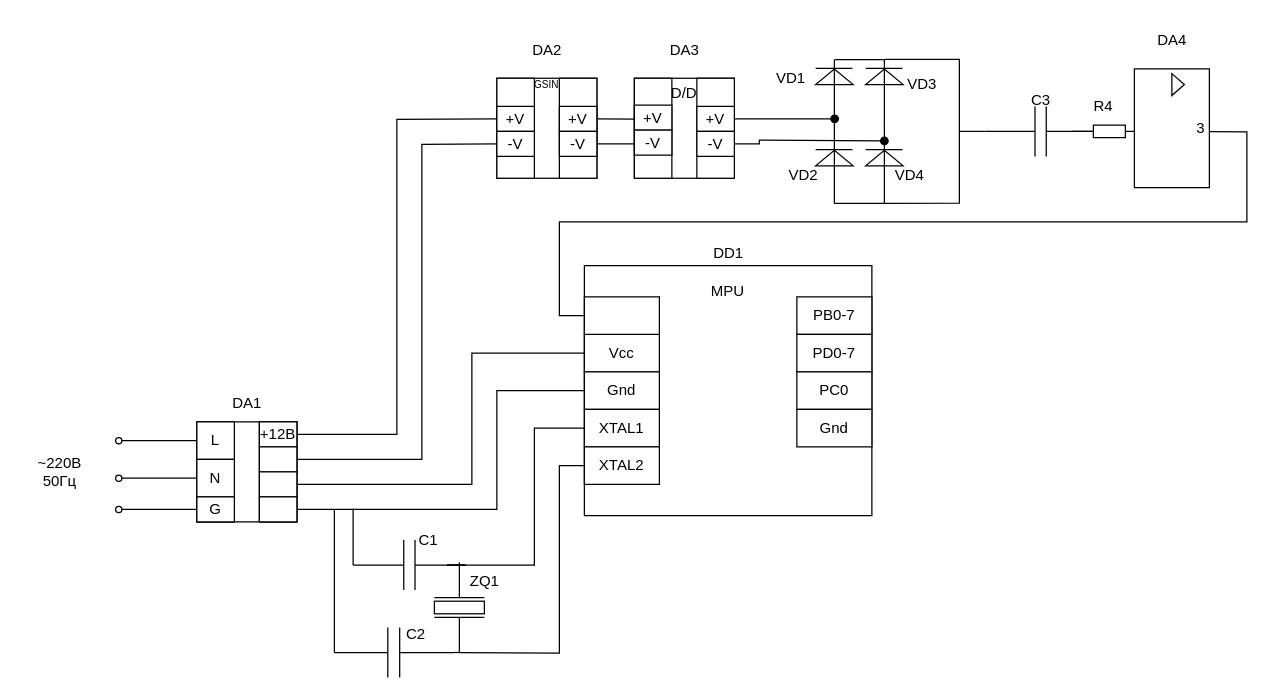
Image size: 1270x699. Some labels were removed from this diagram. The centre of each missing label's shape, as x and y in pixels:
"+5В" belongs at (277,484).
"-12В" belongs at (277,459).
"-5В" belongs at (277,509).
"PC5" belongs at (621,315).
